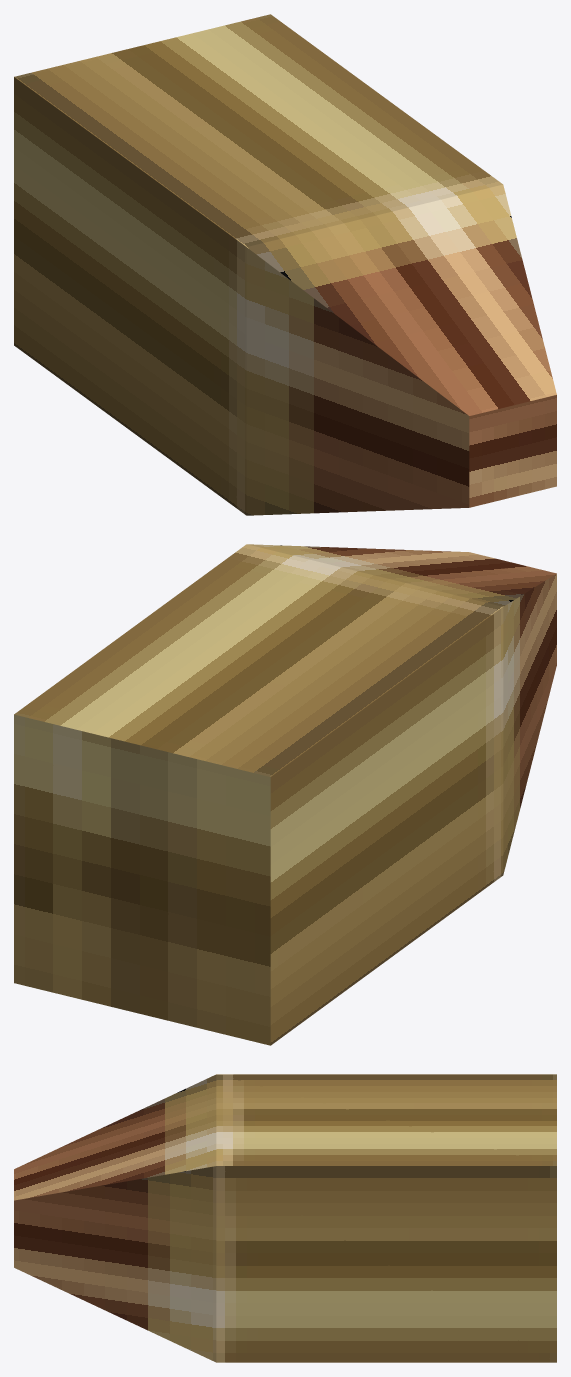
File: Bullet.glb
The picture shows the model from 3 angles, top to bottom: view 1: azimuth 30°, elevation 25°; view 2: azimuth 150°, elevation 25°; view 3: azimuth 270°, elevation 25°; orthographic projection. The views are drawn at different scales.
Visible parts, largest first — view 1: Cube; view 2: Cube; view 3: Cube.
Boxes of the visible parts, left/top/right/bottom form: Cube: left=14, top=14, right=556, bottom=515; Cube: left=14, top=544, right=556, bottom=1045; Cube: left=14, top=1074, right=556, bottom=1362.
Bounding box in the file's own units: 0.2 × 0.2 × 0.5005.
Materials: 1 (1 with a texture image).
